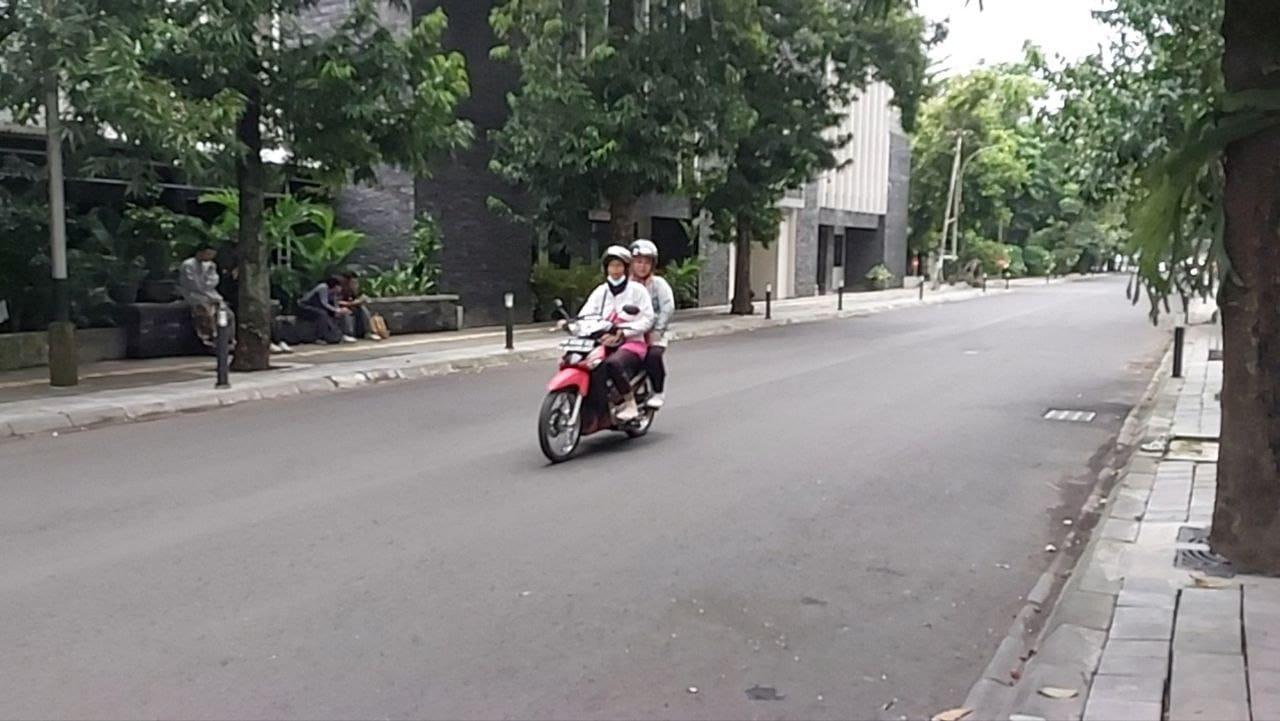helm: (600, 243, 633, 287), (627, 237, 661, 279)
riding: (536, 236, 677, 464)
